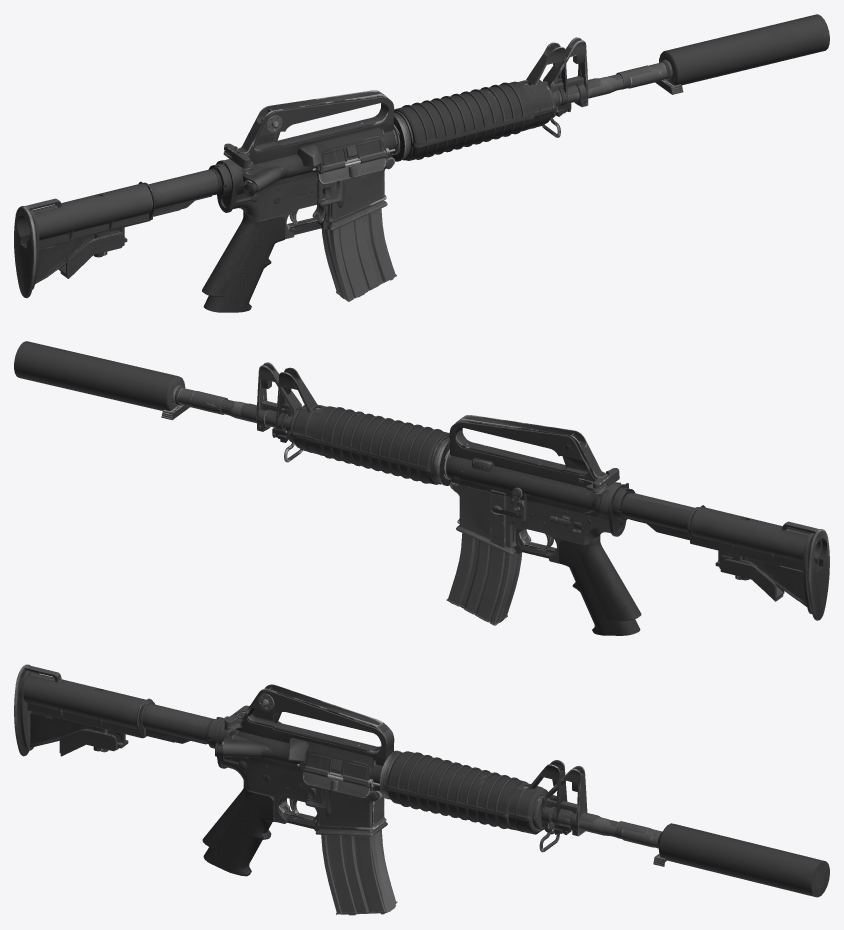
3 views of the same model, one above another, from view 1: azimuth 30°, elevation 25°; view 2: azimuth 150°, elevation 25°; view 3: azimuth 330°, elevation 25° (orthographic).
Parts seen in each view (by area): view 1: weapon_rif_m4a1_silencer.vmdl_c.body_legacy, weapon_rif_m4a1_silencer.vmdl_c.body_hd; view 2: weapon_rif_m4a1_silencer.vmdl_c.body_legacy, weapon_rif_m4a1_silencer.vmdl_c.body_hd; view 3: weapon_rif_m4a1_silencer.vmdl_c.body_legacy, weapon_rif_m4a1_silencer.vmdl_c.body_hd.
Part boxes in pixels (box(x1,y1,x2,y2)): weapon_rif_m4a1_silencer.vmdl_c.body_legacy: box(14, 14, 829, 312); weapon_rif_m4a1_silencer.vmdl_c.body_hd: box(25, 37, 669, 298); weapon_rif_m4a1_silencer.vmdl_c.body_legacy: box(14, 341, 829, 635); weapon_rif_m4a1_silencer.vmdl_c.body_hd: box(185, 362, 822, 622); weapon_rif_m4a1_silencer.vmdl_c.body_legacy: box(14, 664, 829, 914); weapon_rif_m4a1_silencer.vmdl_c.body_hd: box(19, 670, 658, 915).
Size of the model in its own units: 47.46 by 11.79 by 3.59.
2 materials, 2 textured.
